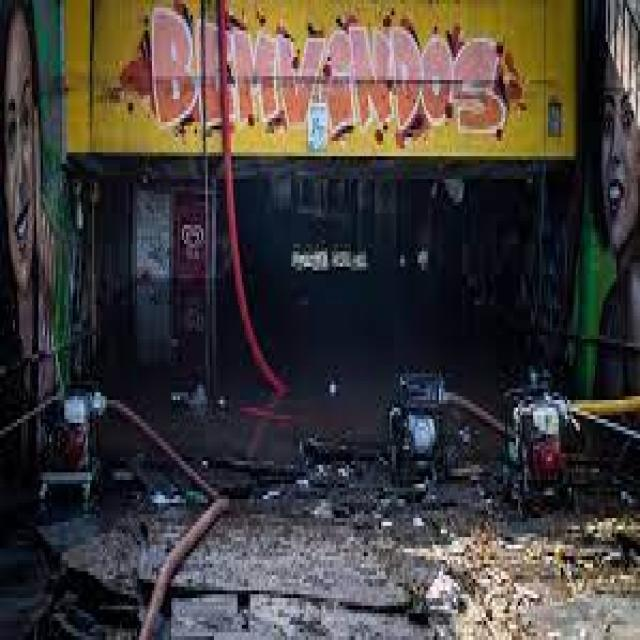-: (152, 5, 505, 131), (3, 8, 55, 358), (601, 25, 640, 391)
